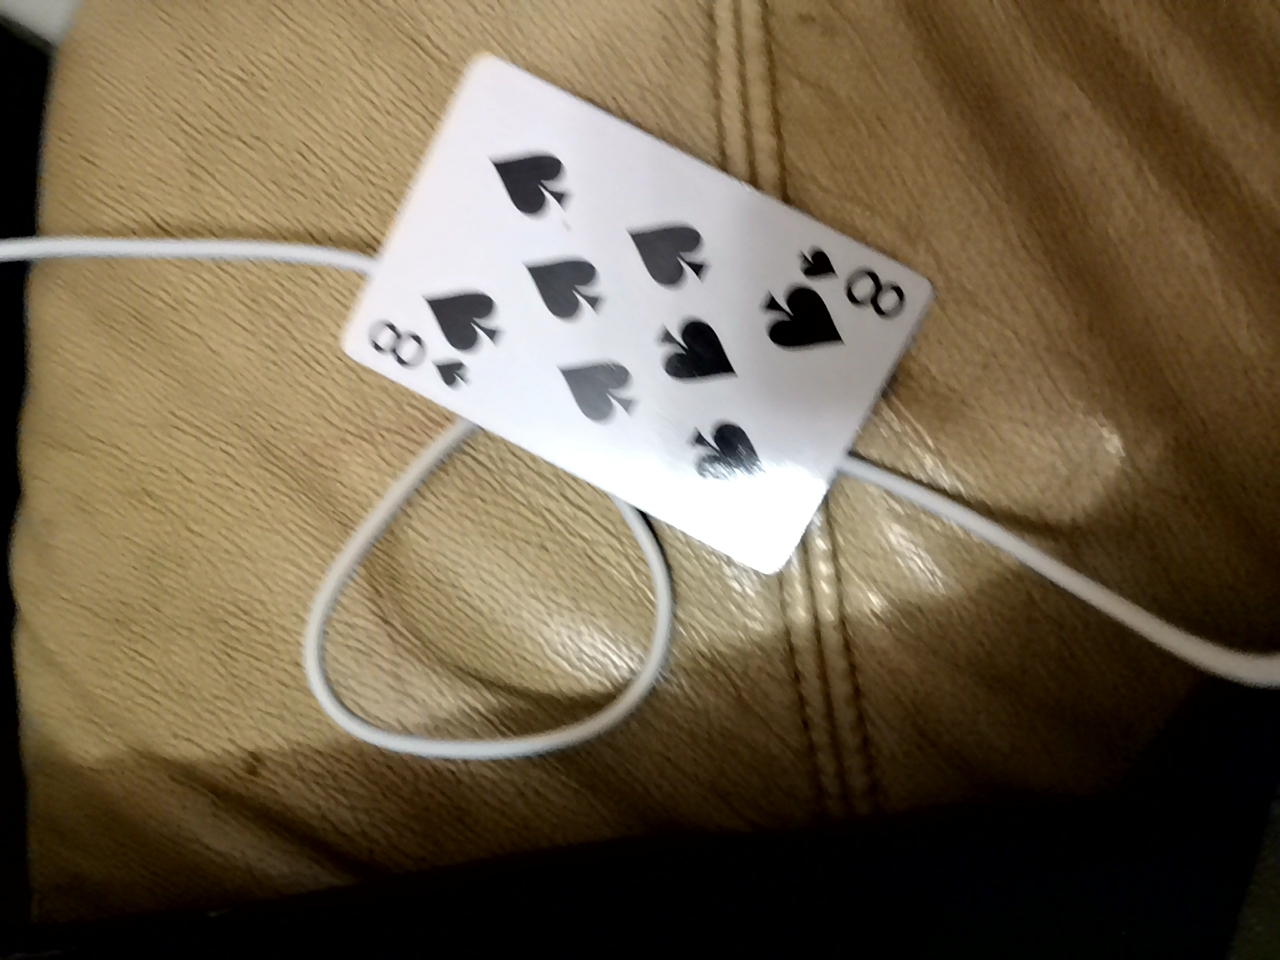ht 8: (377, 84, 939, 622)
